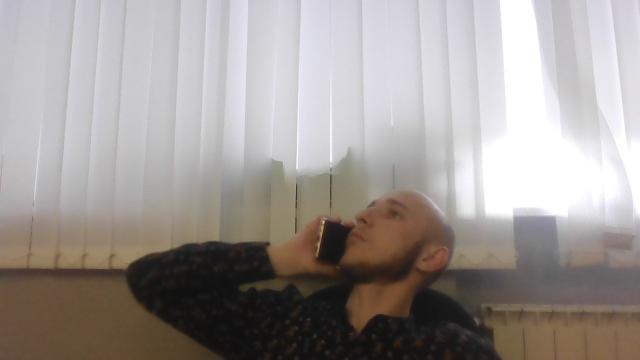PhoneUse: (313, 214, 355, 267)
